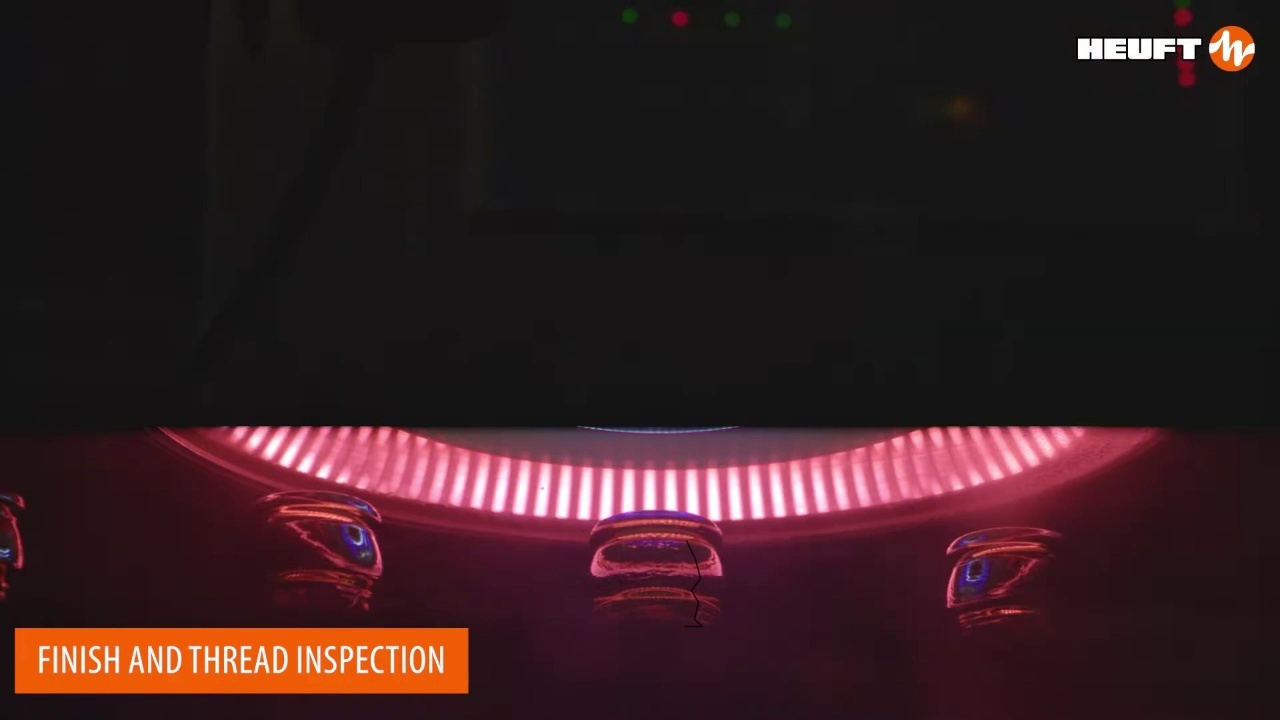bottle: (587, 510, 723, 627)
crack: (684, 540, 702, 626)
